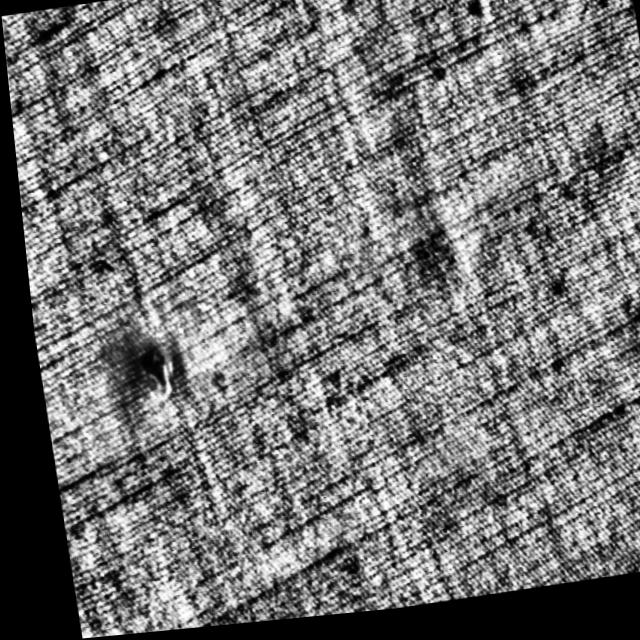Stitch: (124, 338, 175, 408)
